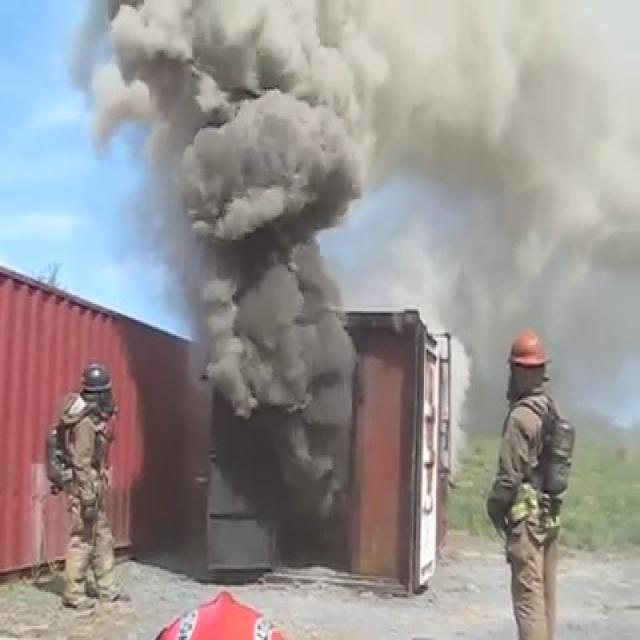Smoke: (153, 19, 390, 457)
